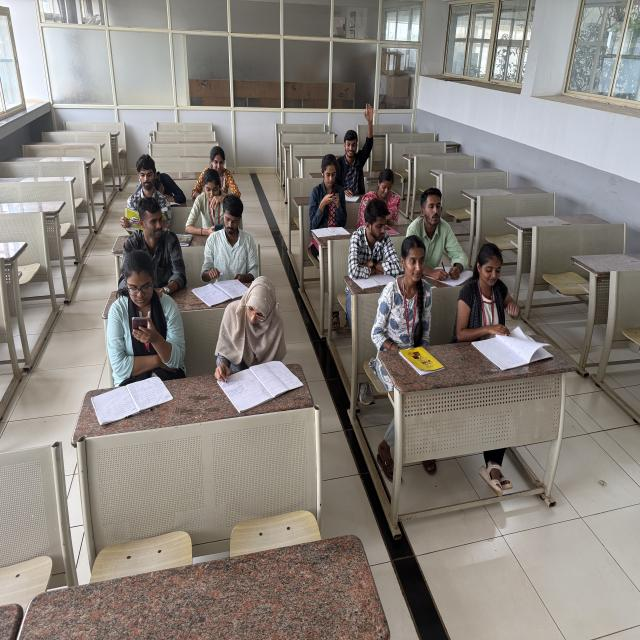Hand Rising: (327, 77, 381, 177)
Reading: (462, 232, 546, 384), (114, 150, 166, 232)
Sleeping: (154, 158, 196, 212)
Using Phone: (96, 243, 194, 366), (294, 152, 356, 242), (170, 170, 237, 244), (365, 170, 409, 233)
Writing: (207, 280, 310, 422), (422, 174, 486, 299), (205, 217, 253, 303)
